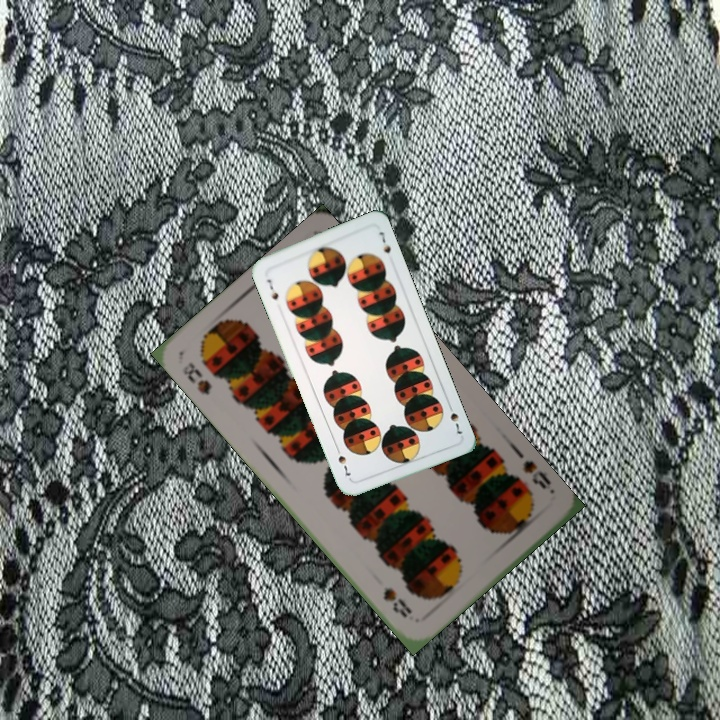S7: (444, 399, 465, 437), (263, 275, 281, 304)
S8: (178, 358, 214, 398), (519, 456, 554, 493)
